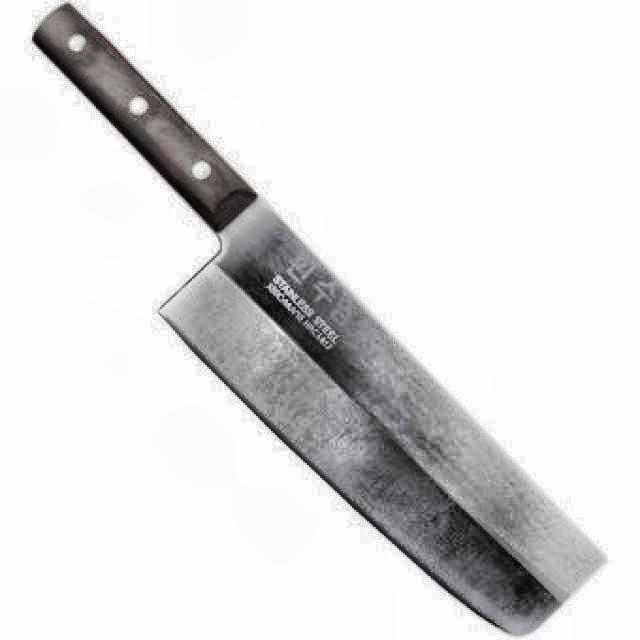knife: (31, 2, 606, 640)
